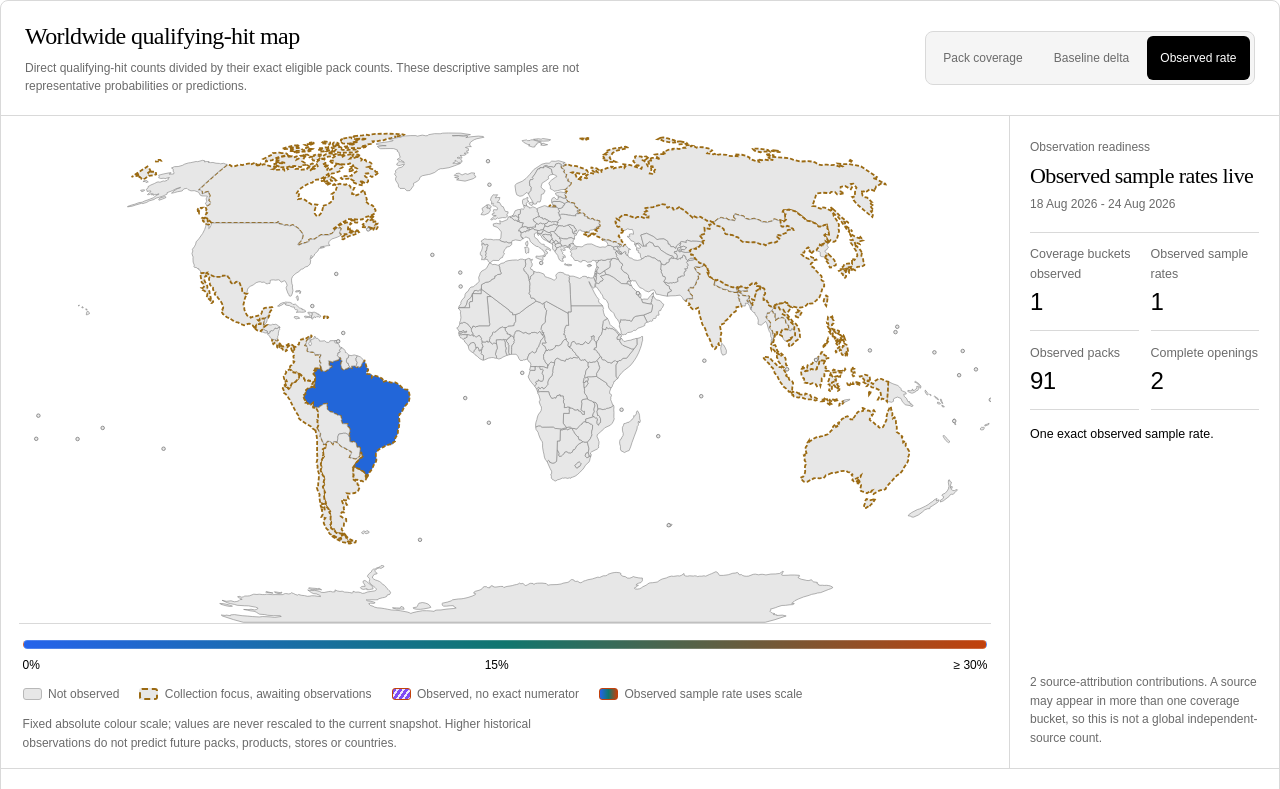
Test case: WorldHeatmap › colours and labels an exact low-sample observed rate without inference
The image size is (1280, 789).
Expected: the text "Observed sample rate uses scale" is shown, [599,686,802,703]
Click the button "Baseline delta". click: [1092, 58]
box: [1040,36,1143,80]
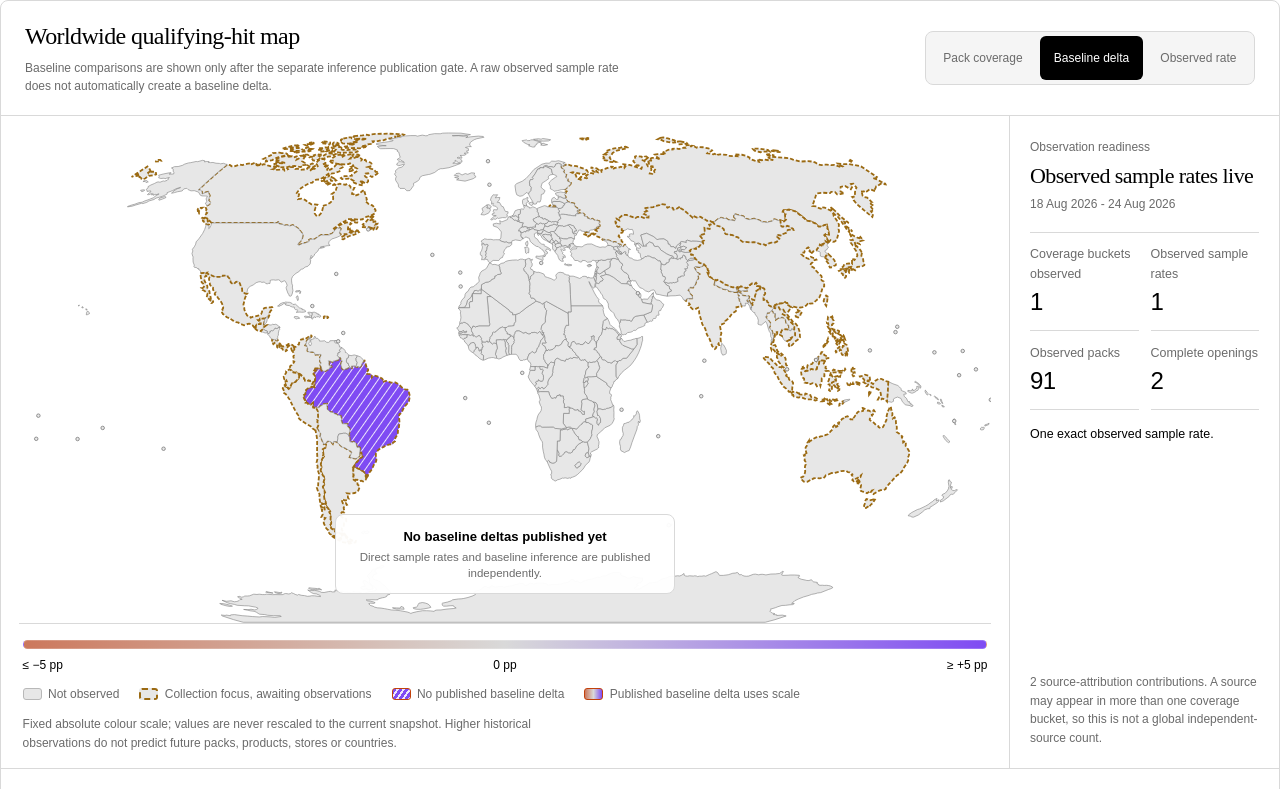
Now the text "No baseline deltas published yet" is shown, box [403,529,607,544]
